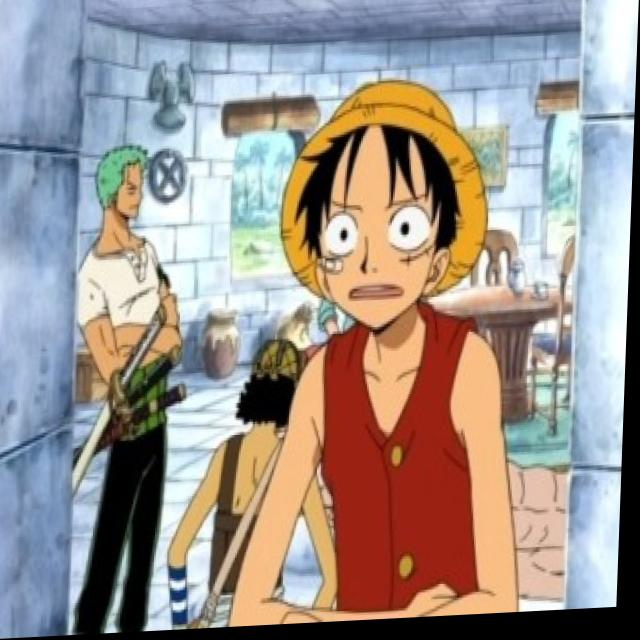Luffy: (273, 73, 504, 352)
Zoro: (82, 134, 170, 242)
